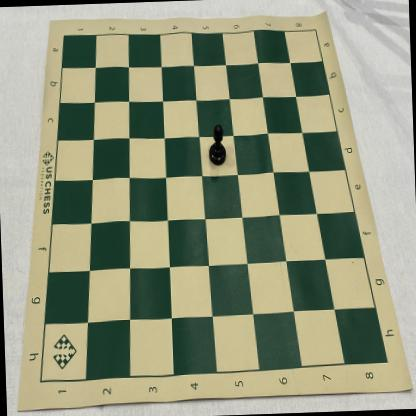pawn: (208, 124, 227, 166)
